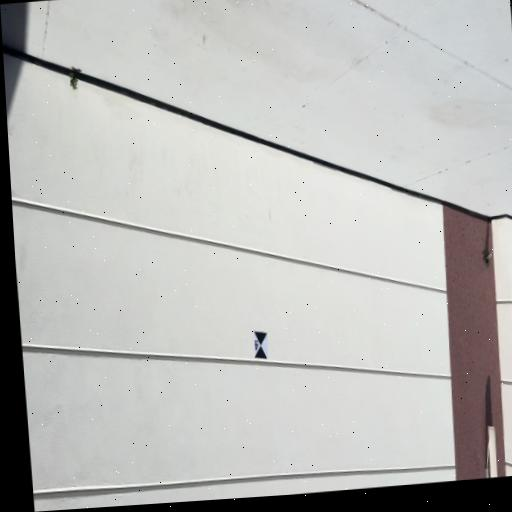target4: (254, 330, 268, 359)
